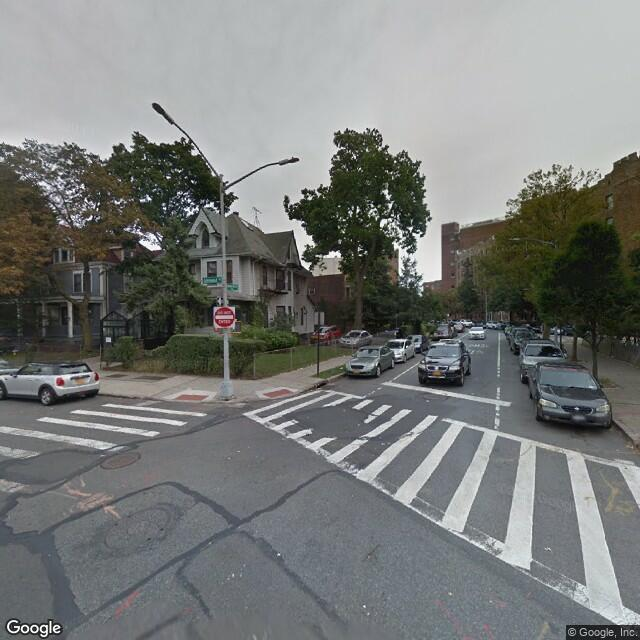litter: (274, 551, 282, 558), (362, 602, 368, 610), (425, 396, 432, 402)
